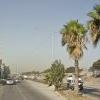Palm tree: (48, 16, 99, 79)
